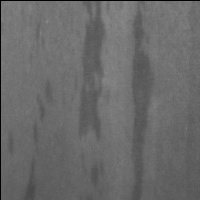inclusion: (127, 1, 154, 200), (76, 1, 108, 146), (31, 76, 54, 148), (21, 156, 40, 200), (88, 150, 106, 191), (3, 126, 19, 158)
